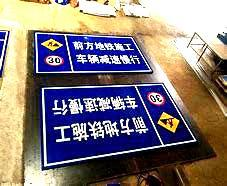sign: (42, 86, 180, 157), (35, 30, 140, 72)
